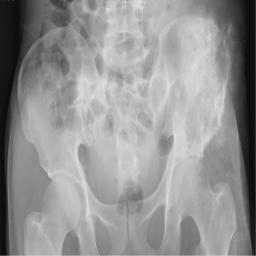cancer: (177, 12, 241, 155)
